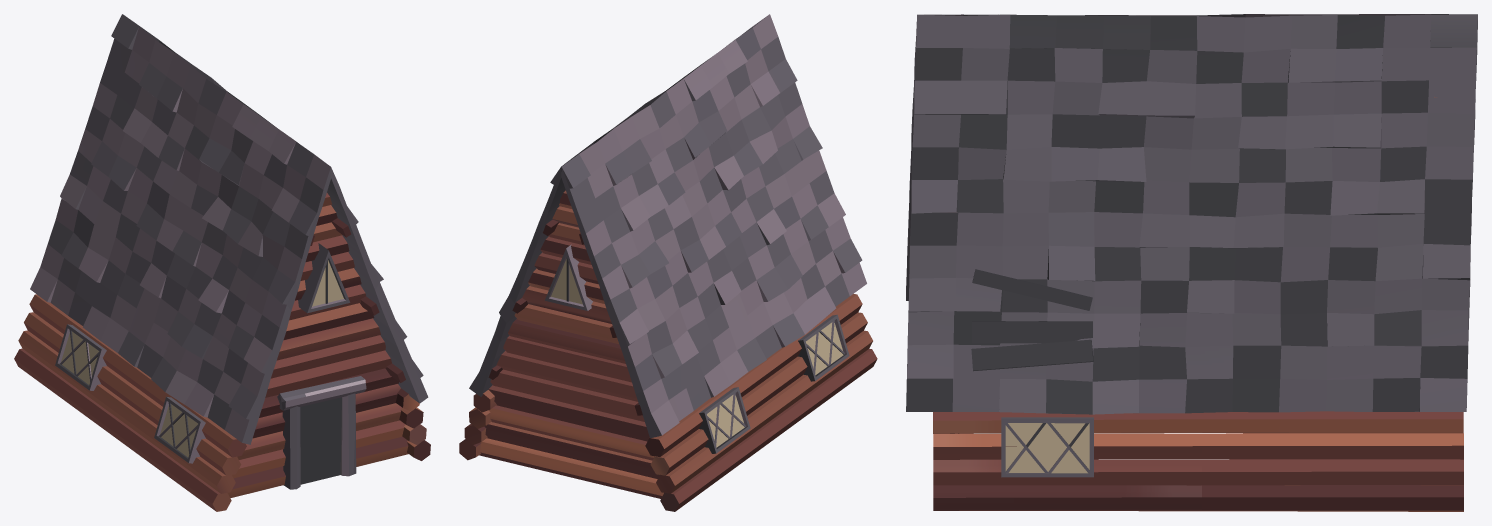
The model's file is F_Chata_04.fbx.
3 renders of one model, left to right at view 1: azimuth 30°, elevation 25°; view 2: azimuth 150°, elevation 25°; view 3: azimuth 270°, elevation 25°, orthographic. The views are drawn at different scales.
Visible parts, largest first — view 1: F_Chata_04; view 2: F_Chata_04; view 3: F_Chata_04.
Part boxes in pixels (x1,y1,x2,y2): F_Chata_04: (14,14,430,511); F_Chata_04: (459,14,877,511); F_Chata_04: (906,14,1477,511).
Size of the model in its own units: 184 by 258 by 308.
